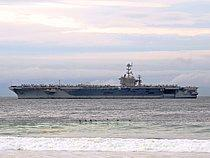MIL_Ship: (8, 63, 200, 100)
